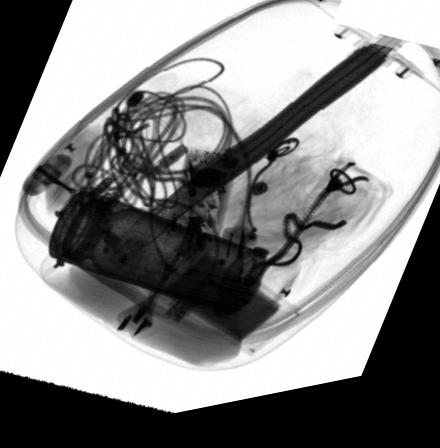Powerbank: (136, 242, 301, 367)
